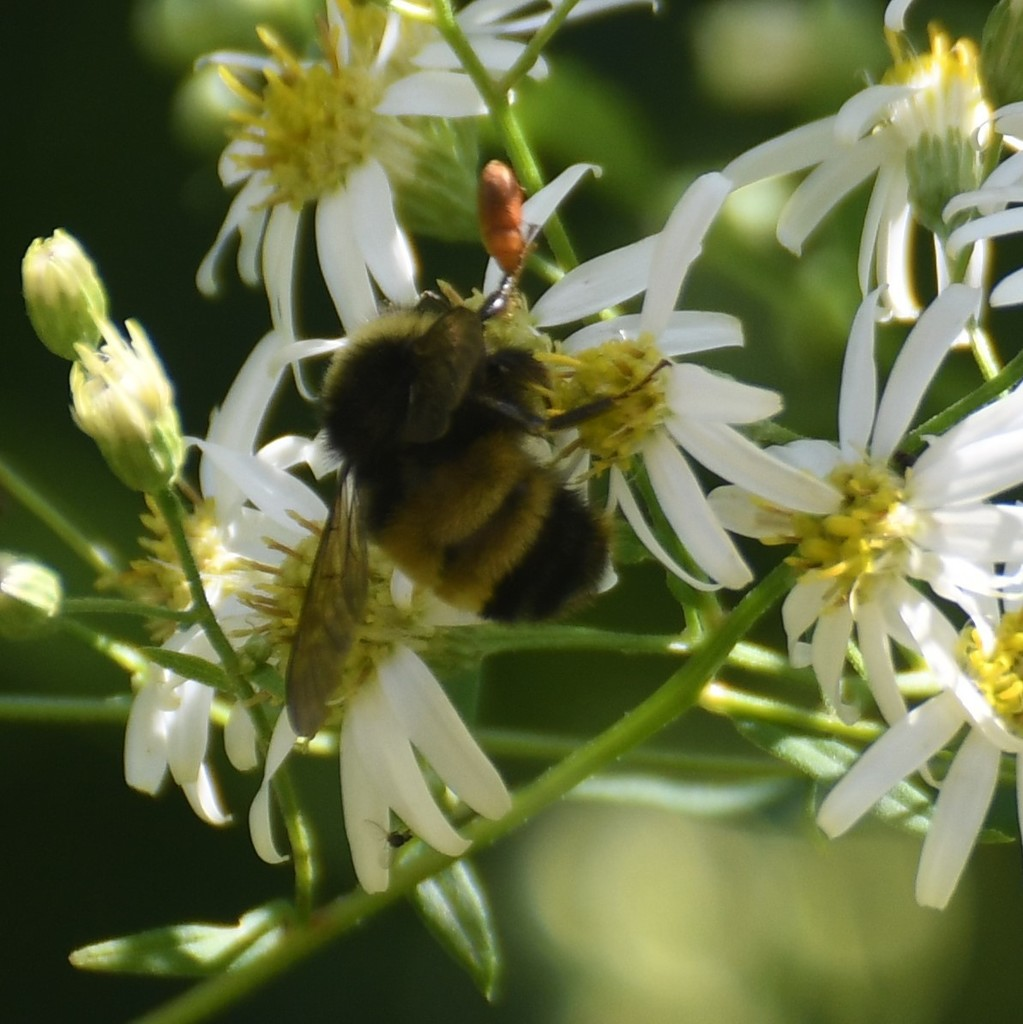bumblebee: (283, 223, 613, 737)
